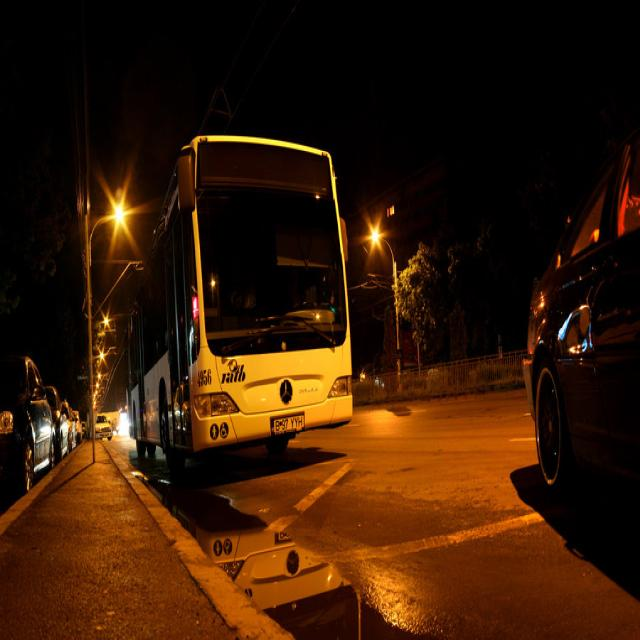Bus: (105, 99, 365, 456)
car: (517, 116, 640, 509), (9, 331, 58, 504)
